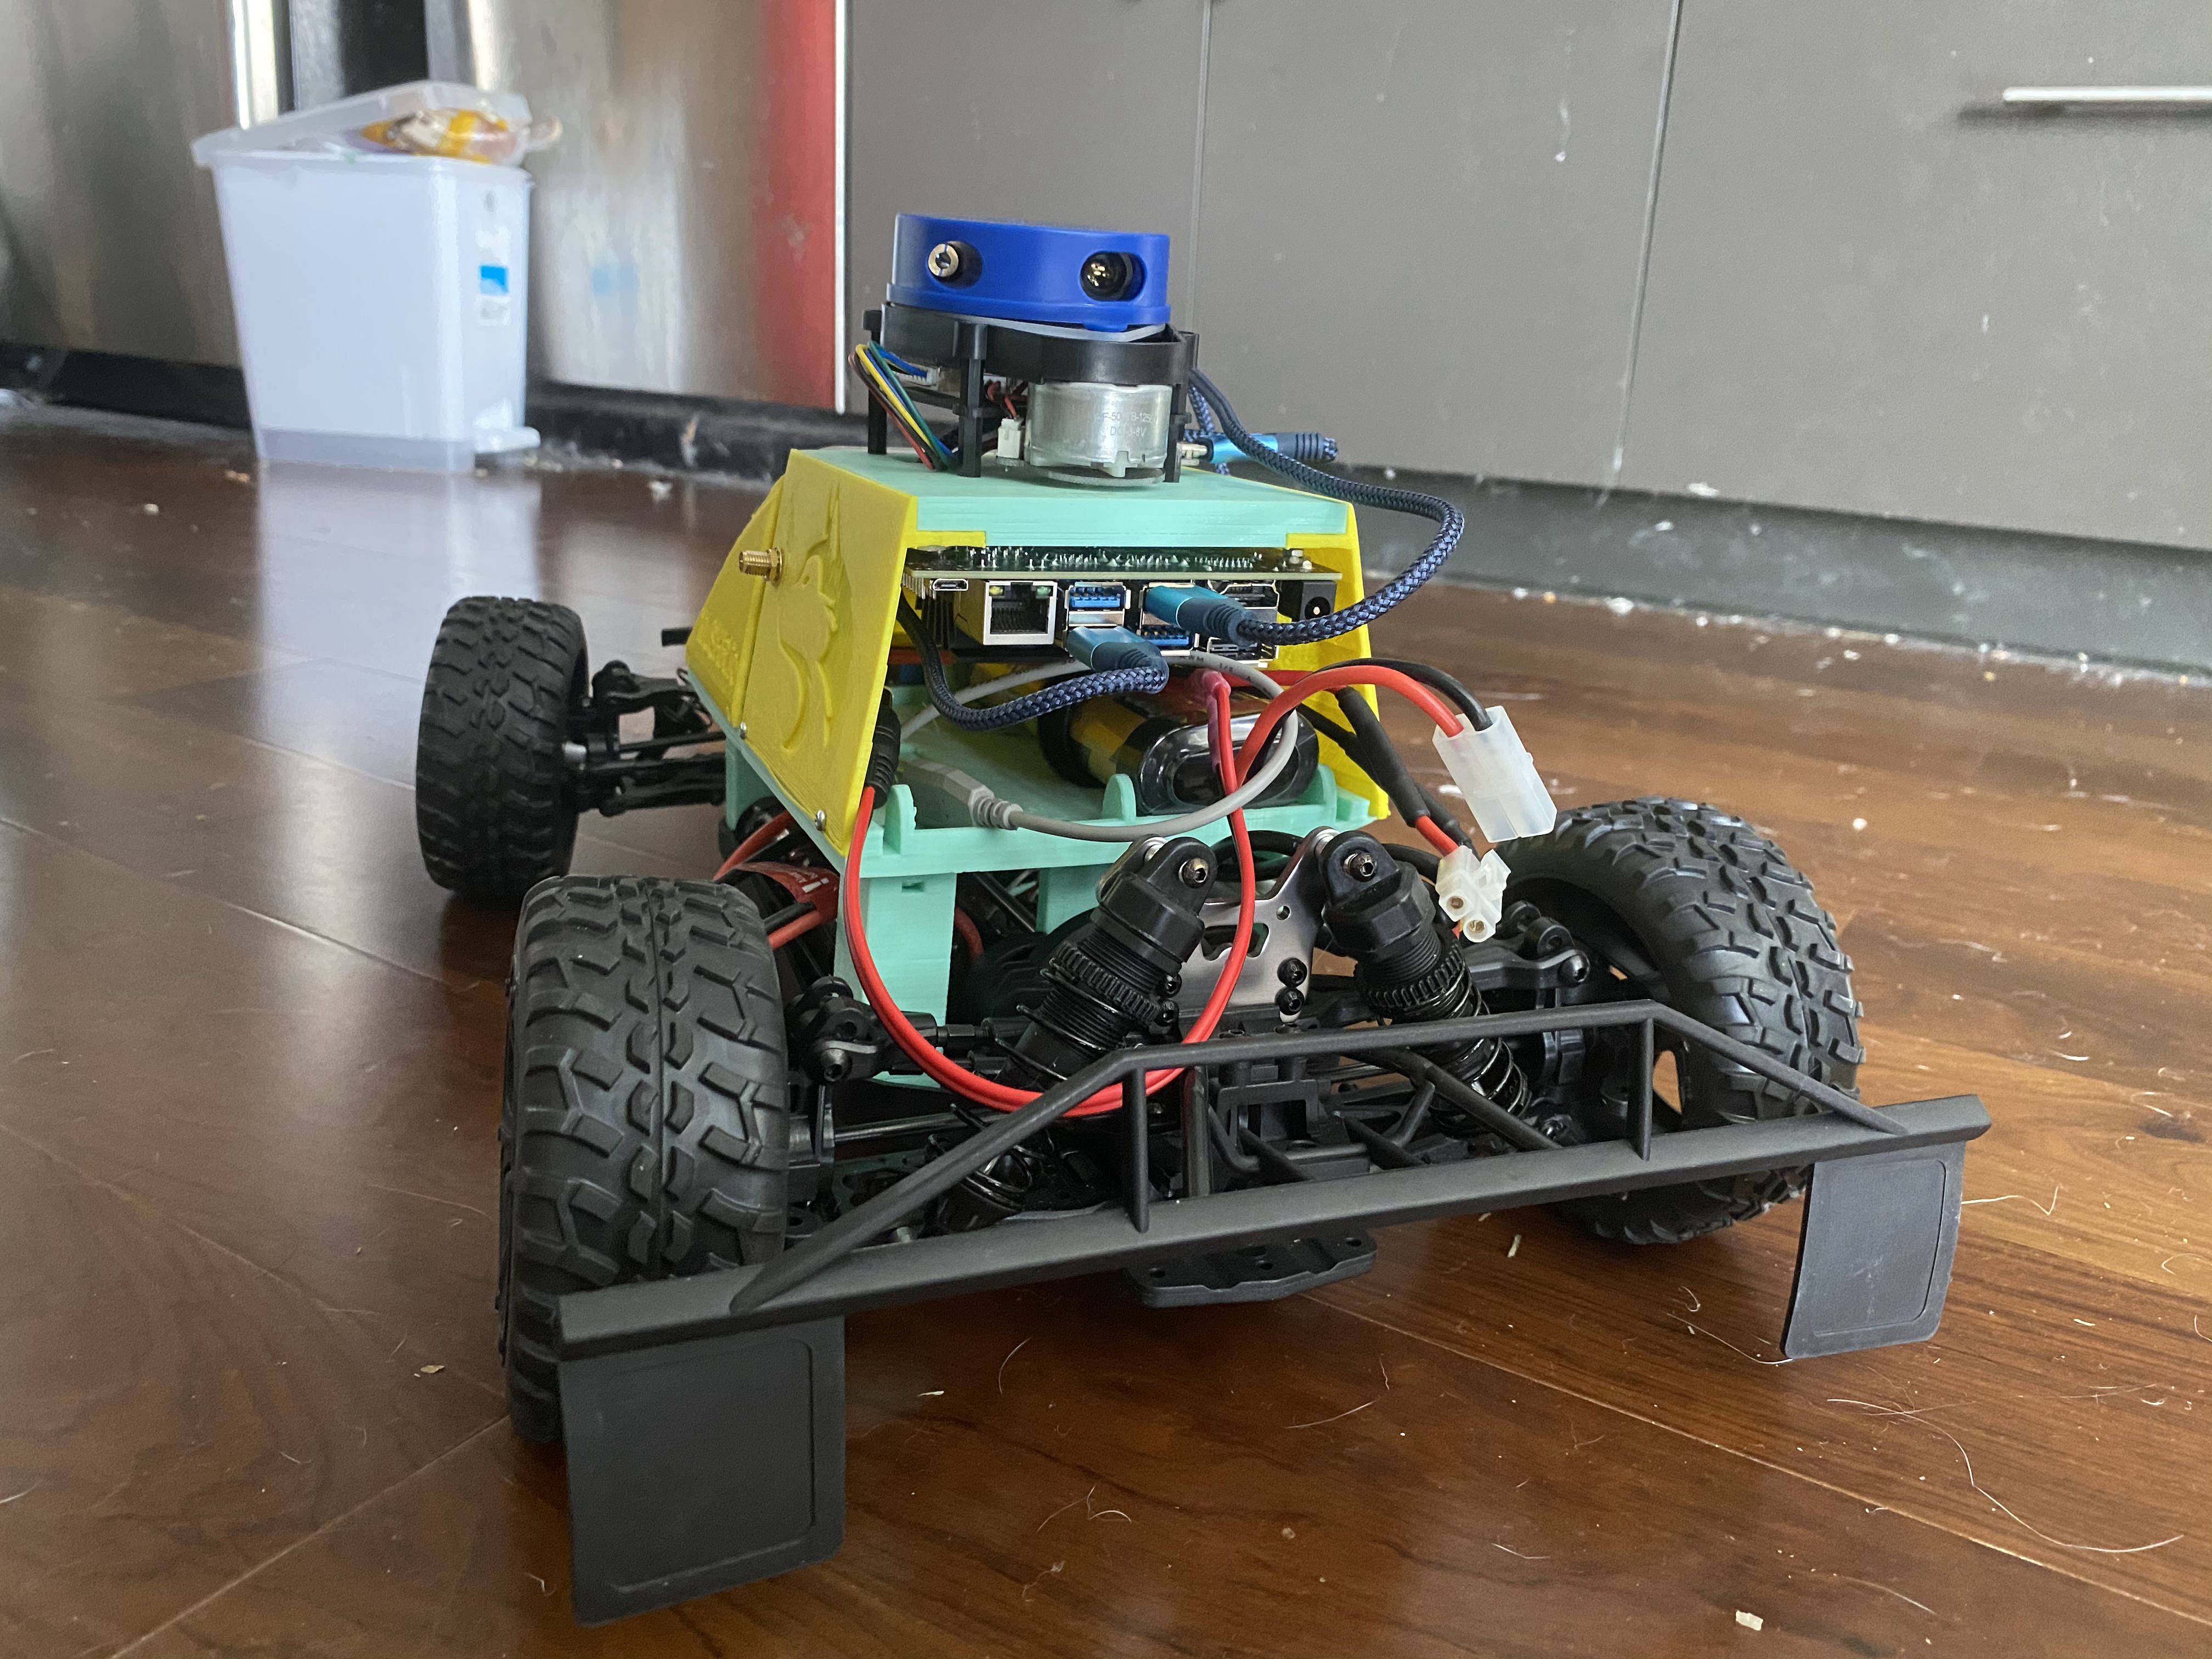mushr_car: (425, 174, 1994, 1617)
